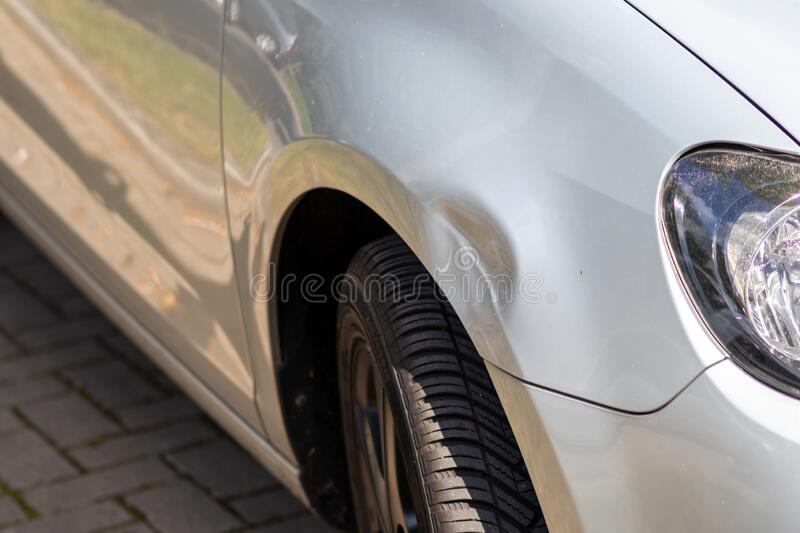fender-dent: (235, 1, 631, 442)
